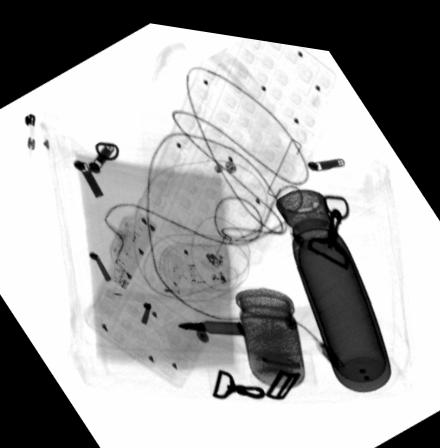Bullet: (174, 311, 243, 327)
